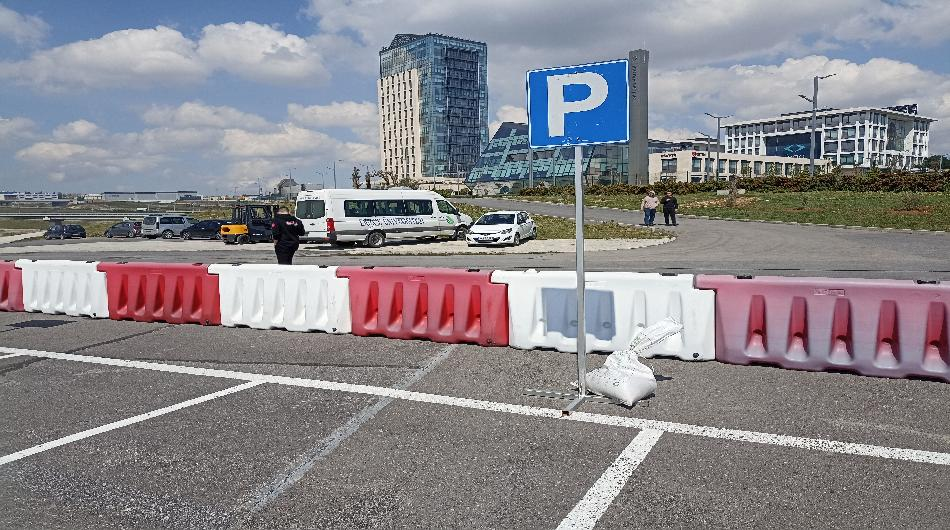park: (524, 57, 637, 154)
